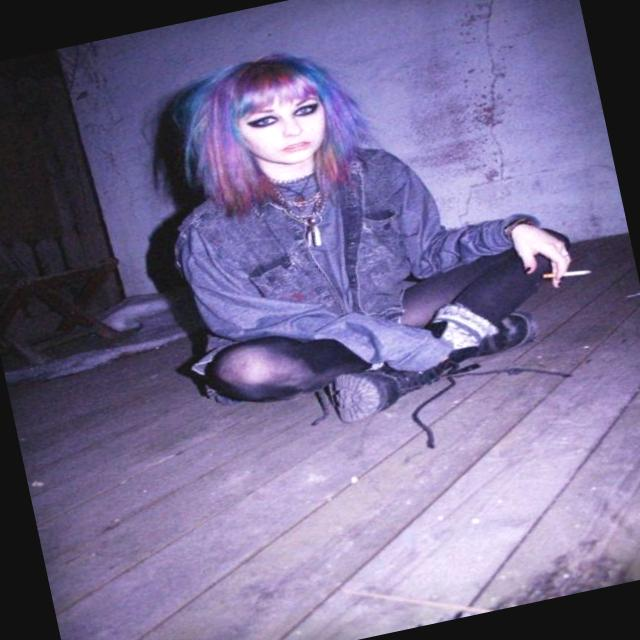cigarette: (536, 256, 606, 286)
